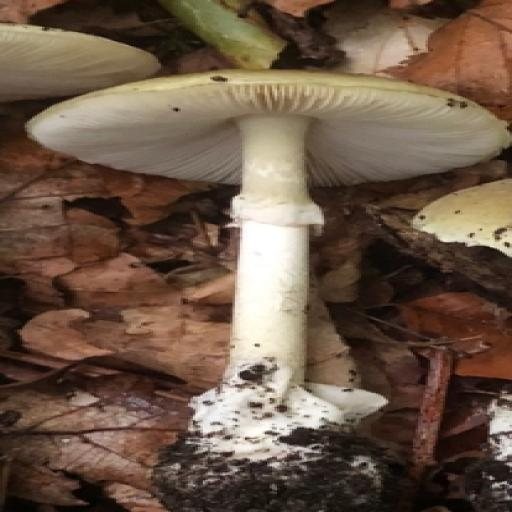mushroom: (28, 65, 501, 512)
